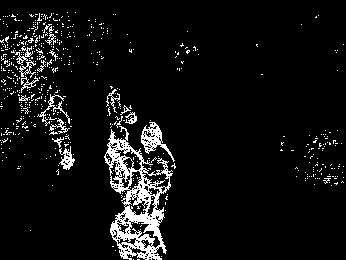person: (136, 120, 178, 222), (111, 187, 165, 260), (107, 127, 142, 214), (41, 93, 77, 172)
